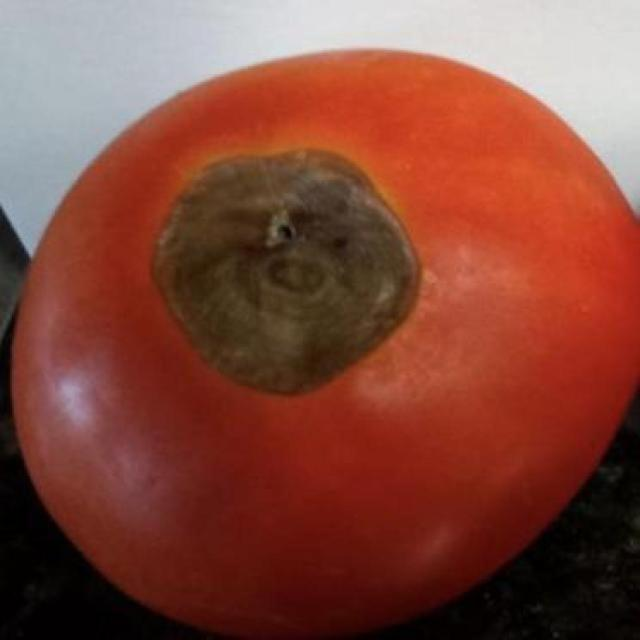Blossom End Rot Fruit: (101, 95, 278, 264)
